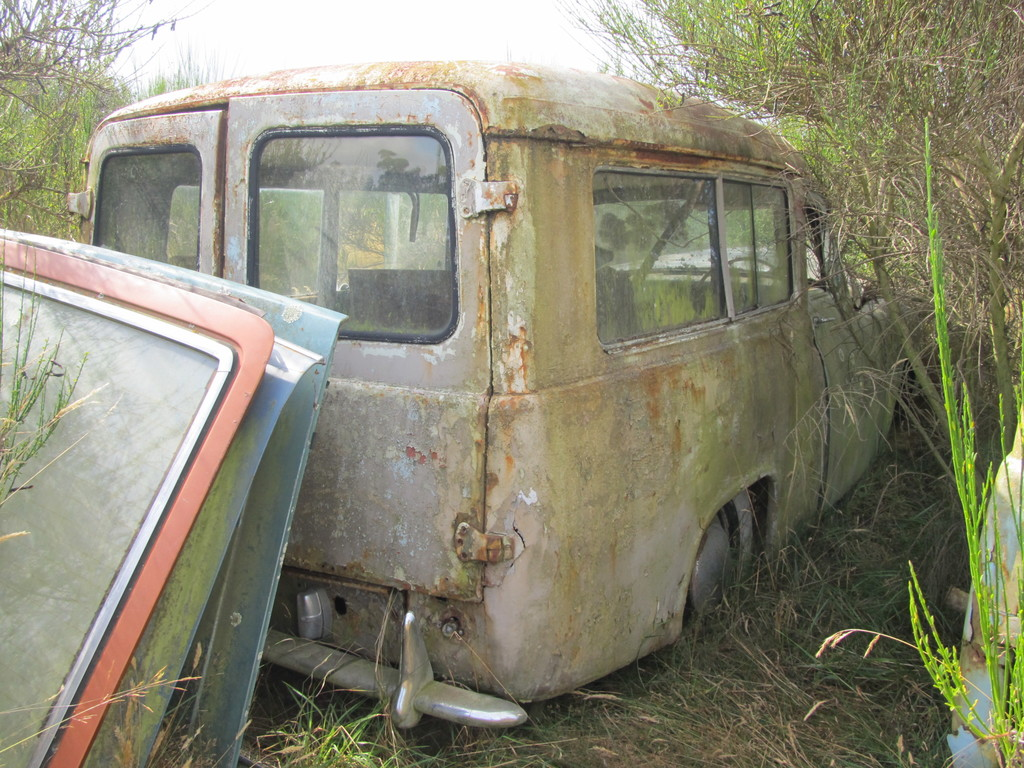Car: (65, 59, 926, 727)
